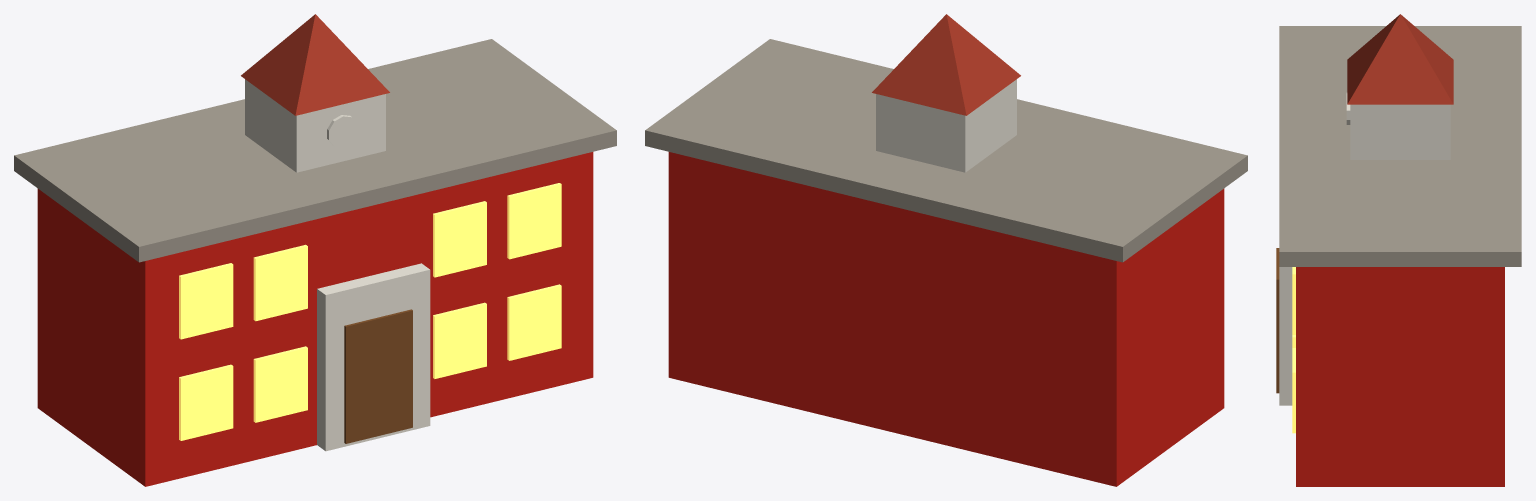
File: school_building.fbx
3 renders of one model, left to right at view 1: azimuth 30°, elevation 25°; view 2: azimuth 150°, elevation 25°; view 3: azimuth 270°, elevation 25°, orthographic. The views are drawn at different scales.
Visible parts, largest first — view 1: school_building; view 2: school_building; view 3: school_building.
Boxes of the visible parts, box(x1,y1,x2,y2) form: school_building: box(14, 14, 616, 486); school_building: box(645, 14, 1247, 486); school_building: box(1276, 14, 1521, 486).
Size of the model in its own units: 6.4 by 4.85 by 2.94.
